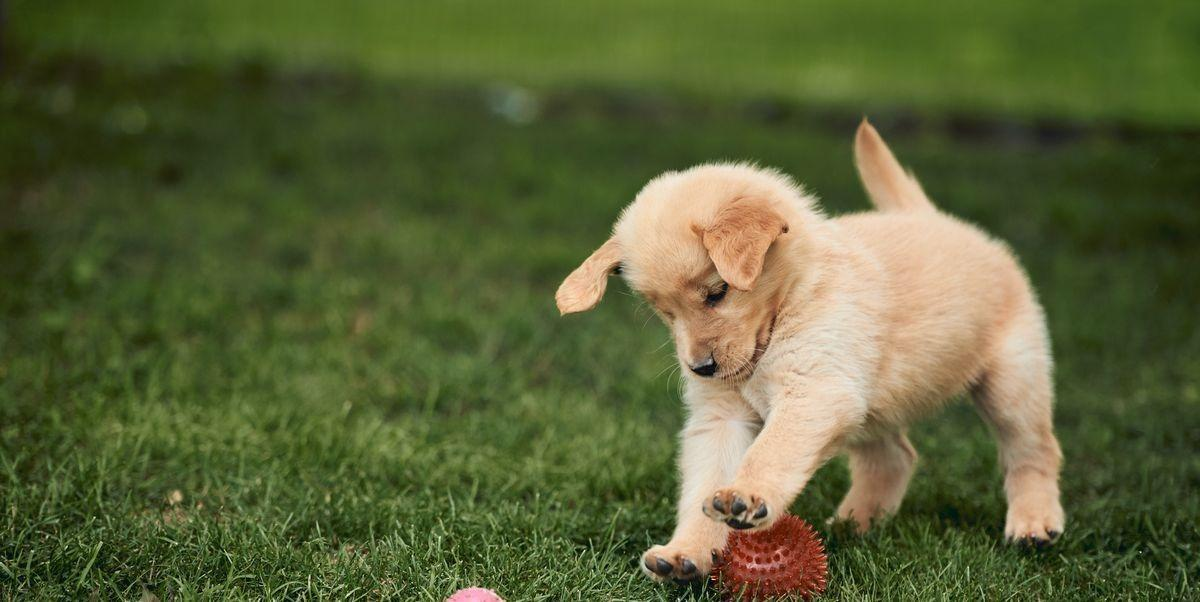puppy-dog: (551, 119, 1067, 587)
